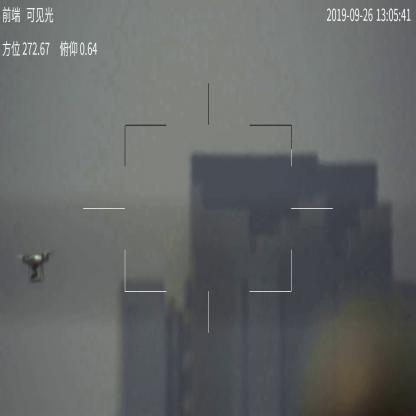uav: (16, 248, 55, 282)
